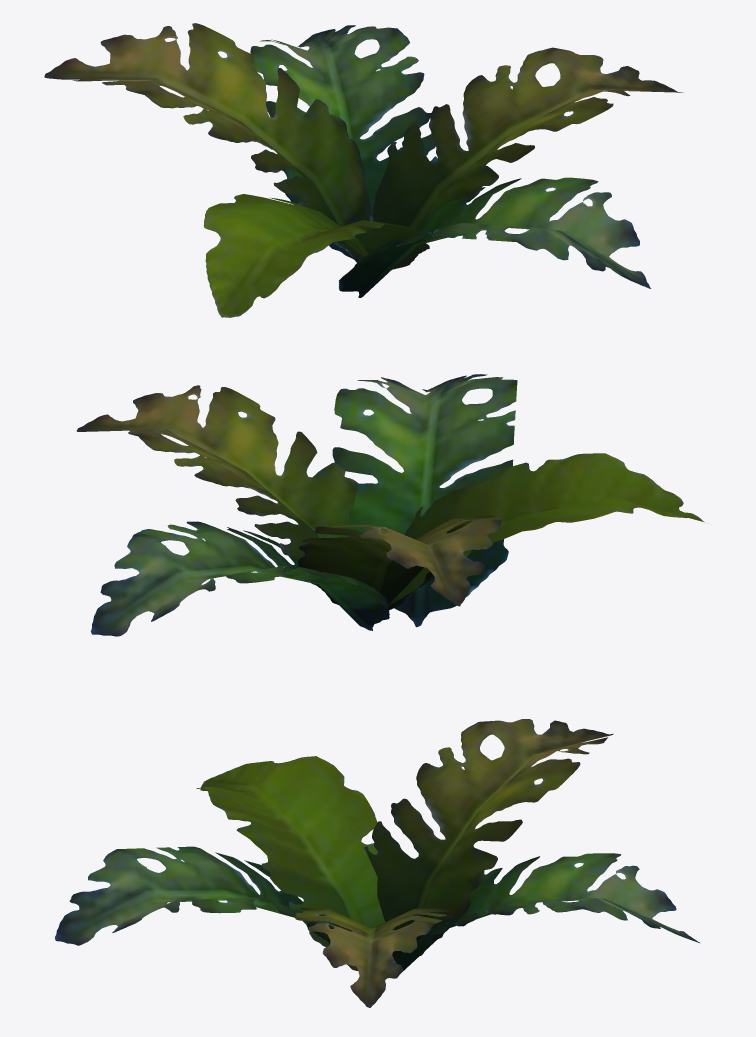
The model's file is bush_2.fbx.
The picture shows the model from 3 angles, top to bottom: view 1: azimuth 30°, elevation 25°; view 2: azimuth 150°, elevation 25°; view 3: azimuth 270°, elevation 25°; orthographic projection. The views are drawn at different scales.
Parts seen in each view (by area): view 1: bush_2; view 2: bush_2; view 3: bush_2.
Part boxes in pixels (bbox=[...]): bush_2: bbox=[44, 23, 683, 317]; bush_2: bbox=[76, 374, 704, 636]; bush_2: bbox=[55, 719, 700, 1007].
Size of the model in its own units: 1.08 by 0.3402 by 1.18.
